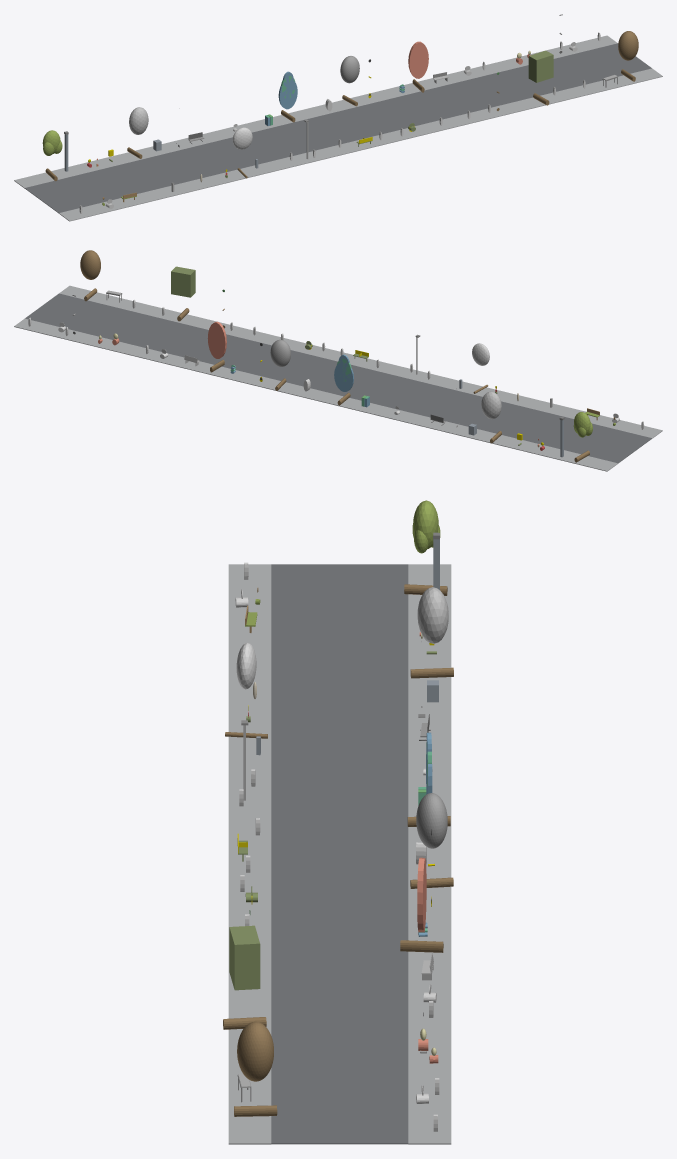
The picture shows the model from 3 angles, top to bottom: view 1: azimuth 30°, elevation 25°; view 2: azimuth 150°, elevation 25°; view 3: azimuth 270°, elevation 25°; orthographic projection. The views are drawn at different scales.
Parts seen in each view (by area): view 1: road_slab, sidewalk_left, sidewalk_right, inst_0024, inst_0023, inst_0021, inst_0025, inst_0019, inst_0022, inst_0018, inst_0020; view 2: road_slab, sidewalk_right, sidewalk_left, inst_0024, inst_0023, inst_0021, inst_0025, inst_0019, inst_0022, inst_0018, inst_0020; view 3: road_slab, sidewalk_left, sidewalk_right, inst_0024, inst_0025, inst_0019, inst_0022, inst_0018, inst_0023, inst_0020.
Part boxes in pixels (x1=…): road_slab: x1=24, y1=43, x2=651, y2=213; sidewalk_left: x1=59, y1=68, x2=662, y2=221; sidewalk_right: x1=14, y1=35, x2=617, y2=188; inst_0024: x1=528, y1=50, x2=553, y2=105; inst_0023: x1=408, y1=41, x2=428, y2=92; inst_0021: x1=278, y1=71, x2=297, y2=122; inst_0025: x1=618, y1=31, x2=638, y2=81; inst_0019: x1=127, y1=107, x2=148, y2=158; inst_0022: x1=340, y1=56, x2=359, y2=106; inst_0018: x1=42, y1=130, x2=62, y2=181; inst_0020: x1=232, y1=127, x2=252, y2=178; road_slab: x1=25, y1=293, x2=651, y2=463; sidewalk_right: x1=14, y1=318, x2=617, y2=471; sidewalk_left: x1=59, y1=285, x2=662, y2=438; inst_0024: x1=171, y1=266, x2=195, y2=321; inst_0023: x1=207, y1=321, x2=226, y2=372; inst_0021: x1=334, y1=354, x2=353, y2=405; inst_0025: x1=80, y1=250, x2=100, y2=301; inst_0019: x1=481, y1=391, x2=501, y2=443; inst_0022: x1=270, y1=339, x2=290, y2=390; inst_0018: x1=573, y1=412, x2=592, y2=462; inst_0020: x1=472, y1=343, x2=489, y2=393; road_slab: x1=271, y1=564, x2=408, y2=1144; sidewalk_left: x1=228, y1=564, x2=271, y2=1144; sidewalk_right: x1=408, y1=564, x2=451, y2=1144; inst_0024: x1=223, y1=925, x2=266, y2=1029; inst_0025: x1=234, y1=1021, x2=277, y2=1116; inst_0019: x1=410, y1=587, x2=453, y2=678; inst_0022: x1=410, y1=793, x2=453, y2=888; inst_0018: x1=404, y1=500, x2=447, y2=595; inst_0023: x1=400, y1=857, x2=443, y2=952; inst_0020: x1=225, y1=642, x2=267, y2=738.
Size of the model in its own units: 80 by 6.08 by 13.48.
